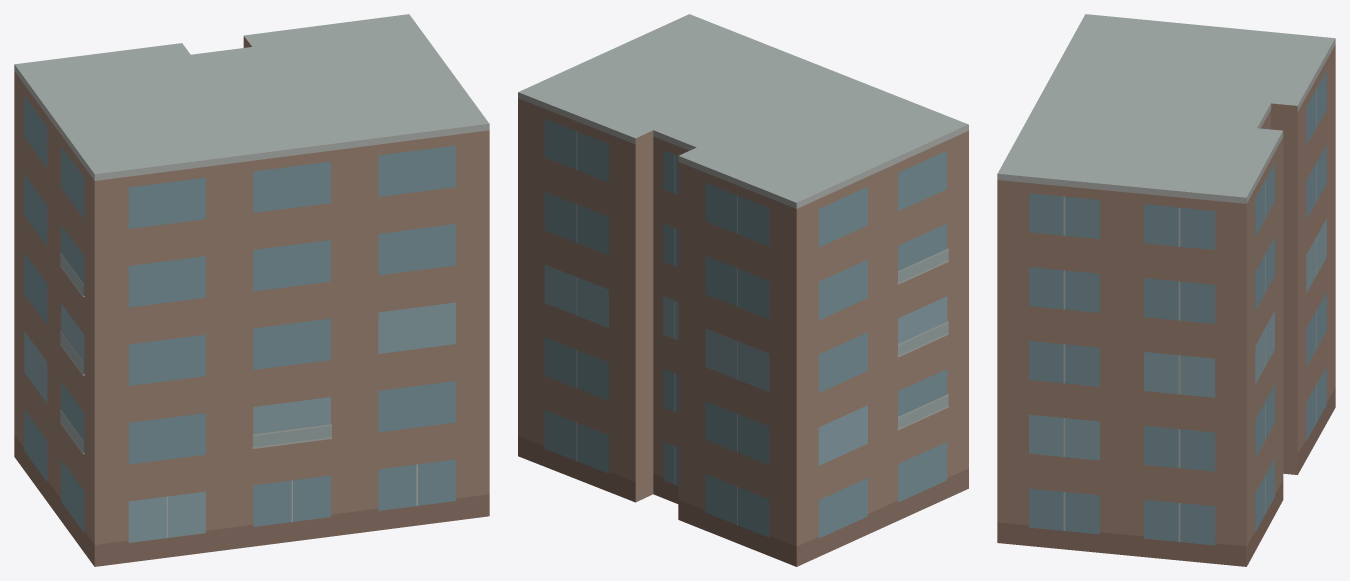
File: survey-upis-32957414.glb
3 views of the same model, side by side, from view 1: azimuth 30°, elevation 25°; view 2: azimuth 150°, elevation 25°; view 3: azimuth 270°, elevation 25° (orthographic). The views are drawn at different scales.
Parts seen in each view (by area): view 1: survey-upis-32957414.tmp; view 2: survey-upis-32957414.tmp; view 3: survey-upis-32957414.tmp.
Boxes of the visible parts, box(x1,y1,x2,y2) form: survey-upis-32957414.tmp: box(14, 14, 489, 566); survey-upis-32957414.tmp: box(518, 14, 968, 566); survey-upis-32957414.tmp: box(997, 14, 1335, 566).
Size of the model in its own units: 15.49 by 14.5 by 12.05.
